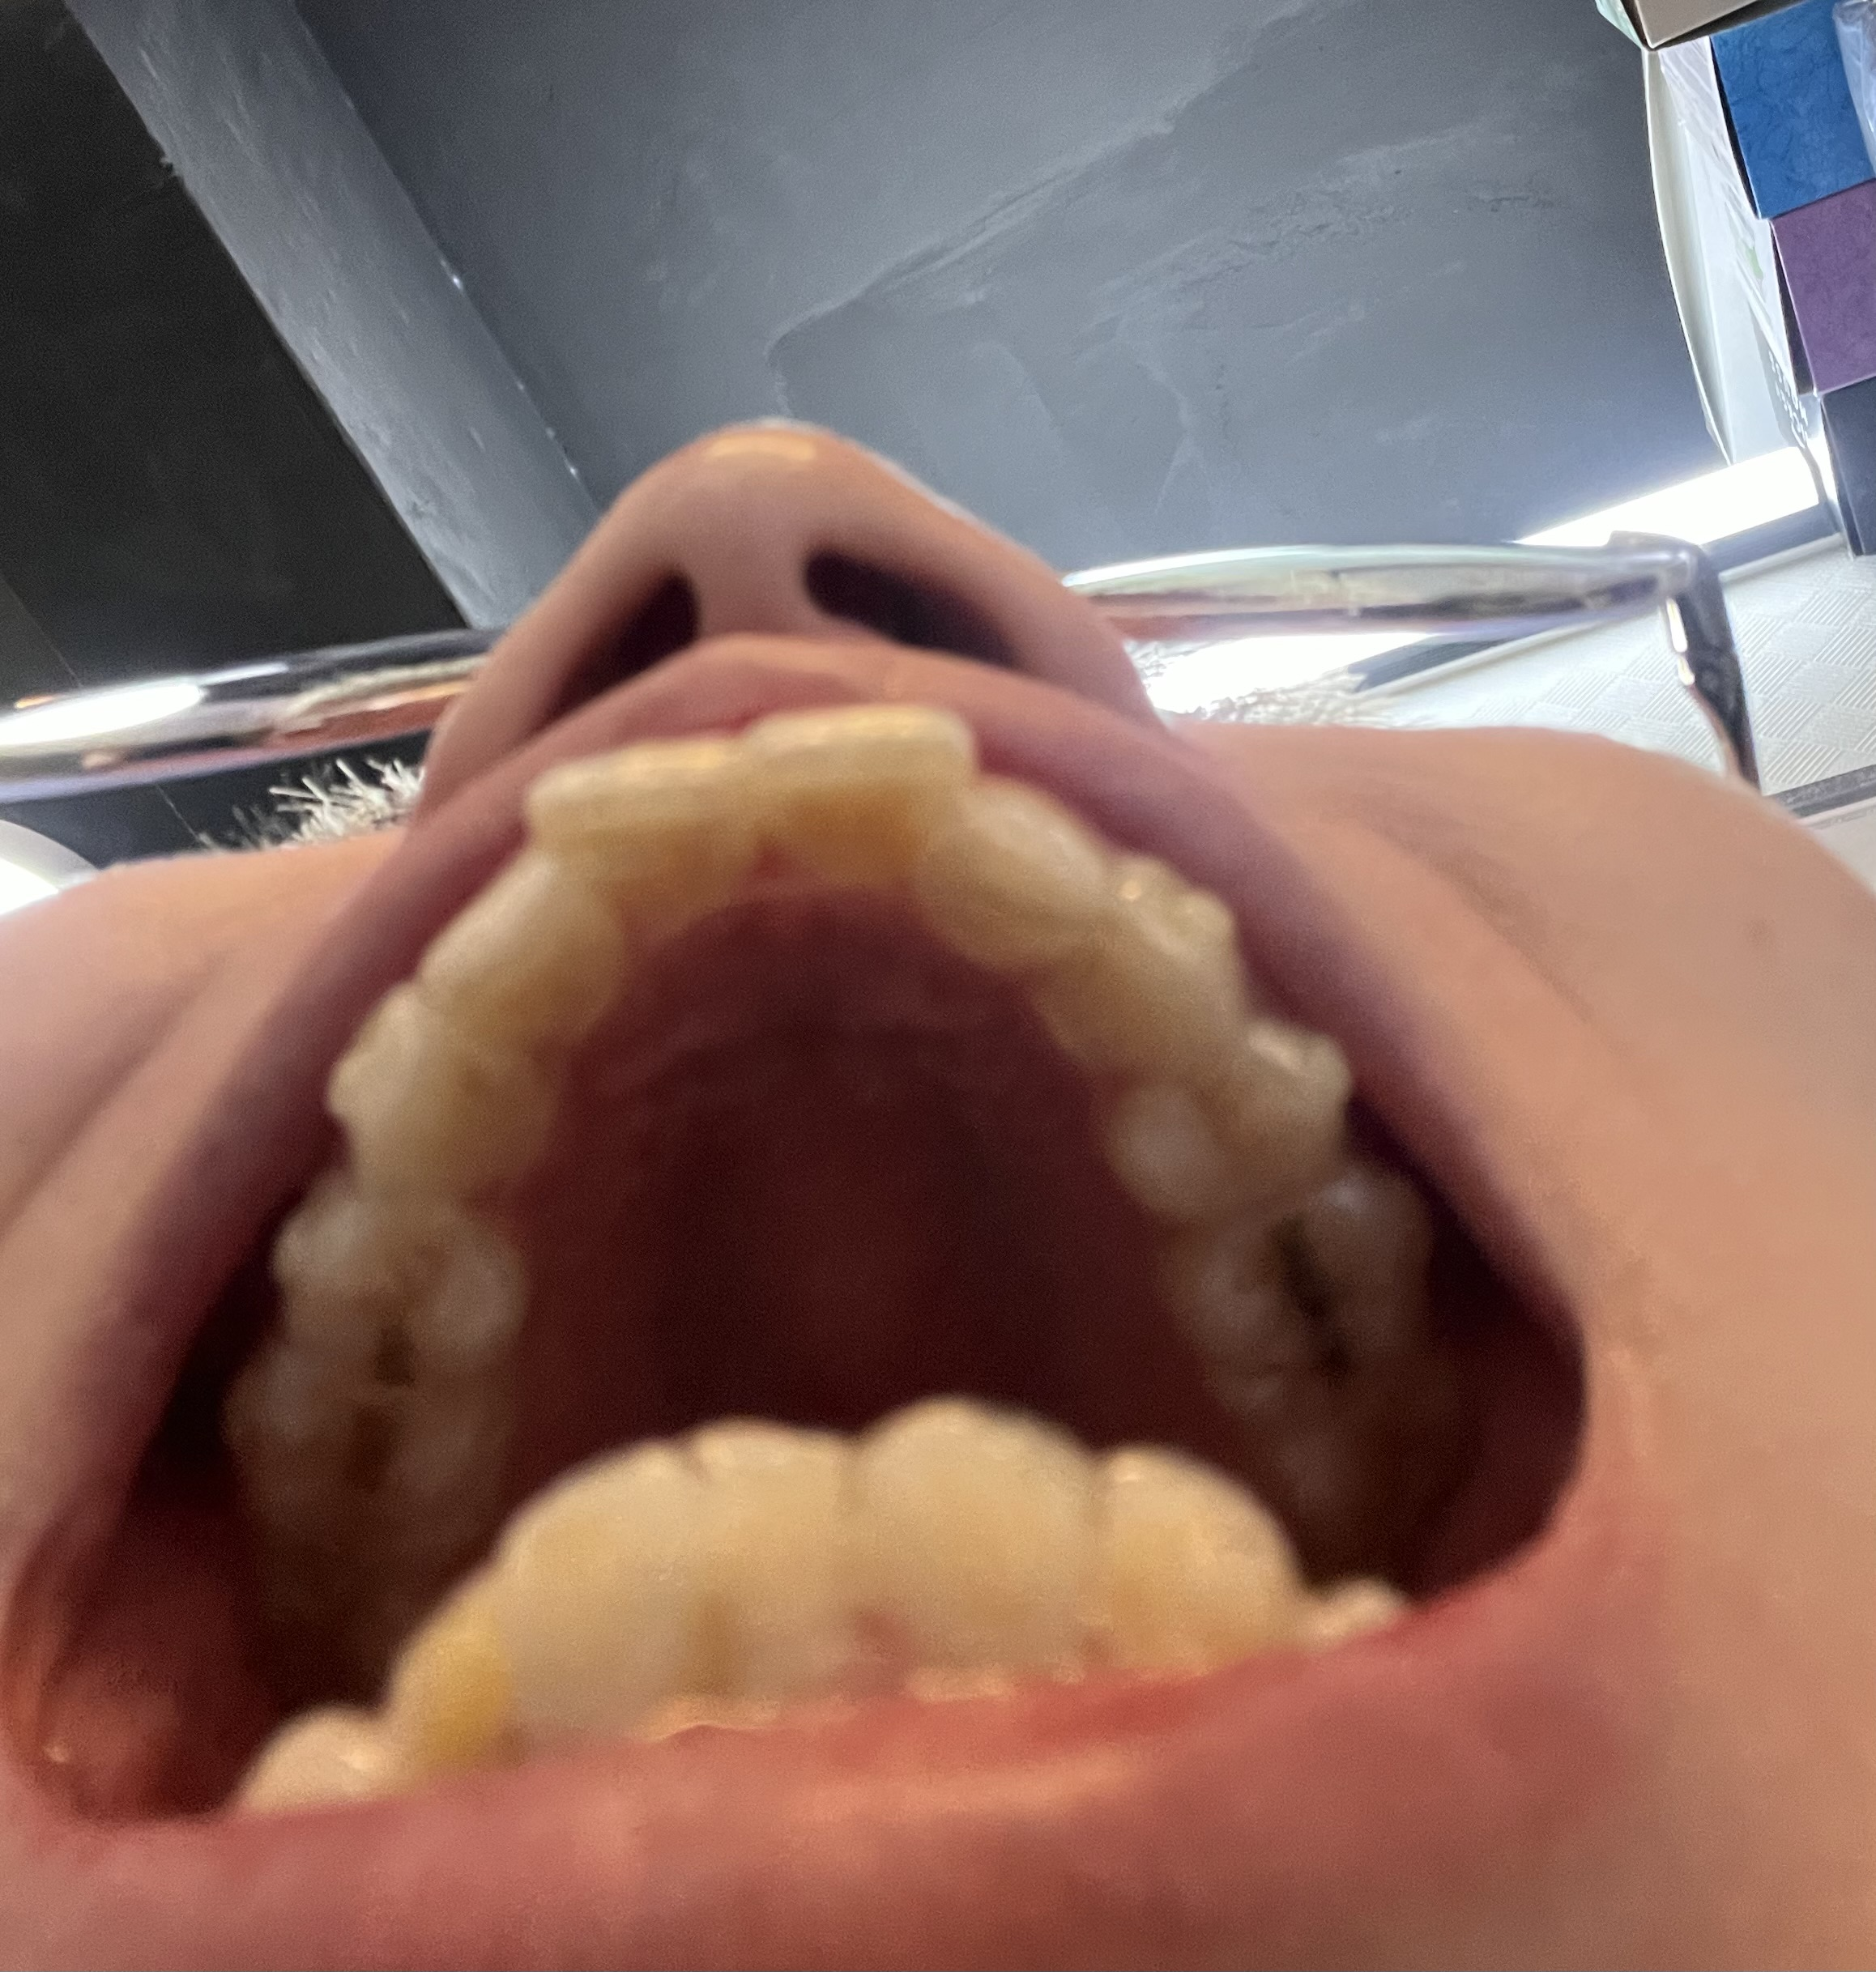teeth: (500, 1458, 720, 1750), (694, 1386, 872, 1713), (245, 1366, 523, 1571), (1099, 1012, 1355, 1224), (872, 1396, 1062, 1673), (1203, 1173, 1422, 1409), (1043, 852, 1261, 1076), (523, 739, 761, 942), (914, 762, 1108, 988), (1094, 1446, 1289, 1667), (301, 1173, 525, 1358), (340, 986, 548, 1181), (1281, 1368, 1467, 1555), (447, 861, 613, 1065), (763, 724, 956, 896), (407, 1574, 511, 1784), (217, 1743, 407, 1817)
